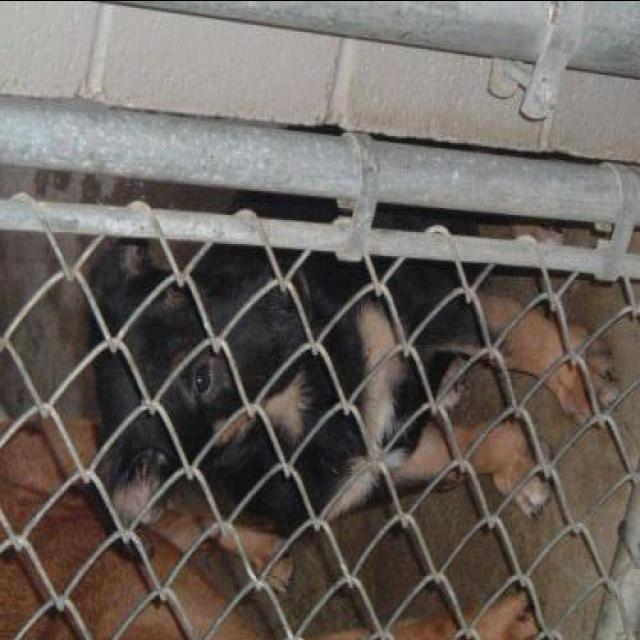dog: (70, 228, 584, 552)
